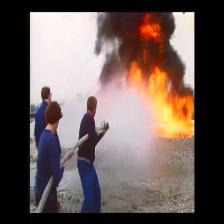fire: (155, 98, 190, 134), (132, 68, 176, 93)
smoke: (105, 16, 175, 60)
